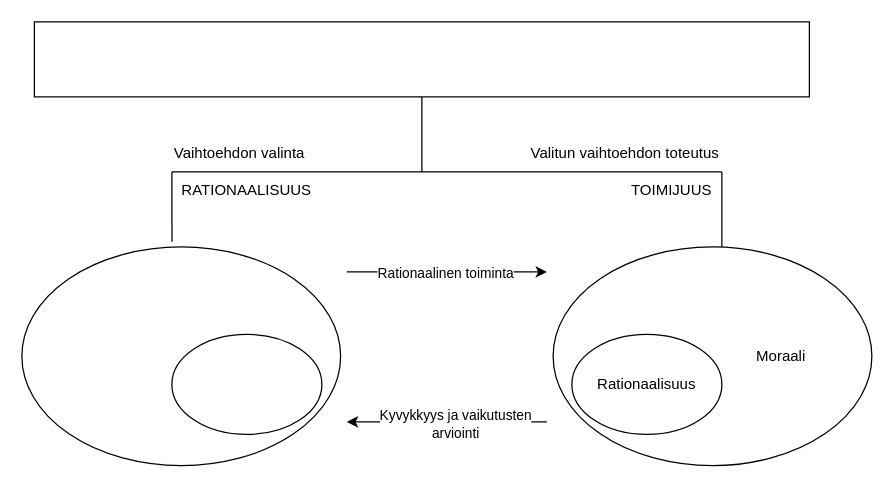
Image size: 894x488. Some labels were removed from this diagram. Here are the shapes that lost their labels. From the top down, the centre of each, then its label:
the point at 421,59: Päätöksenteko
the point at 246,383: Muodollisuus
